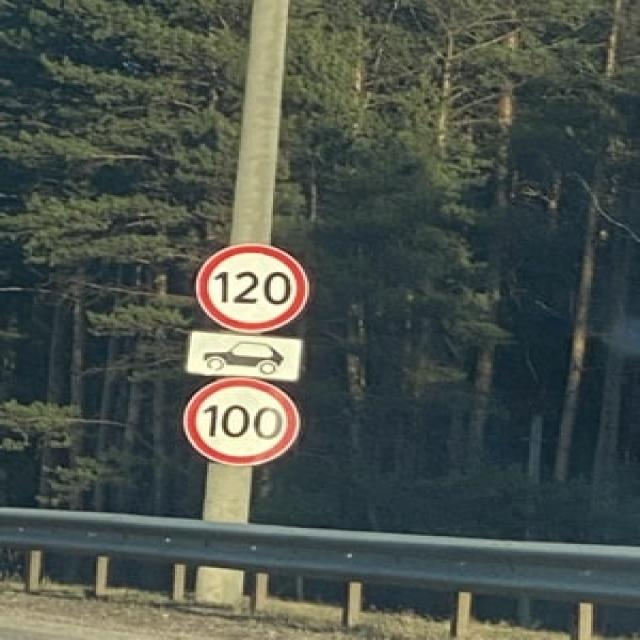Speed Limit -100-: (201, 404, 283, 440)
Speed Limit -120-: (212, 270, 292, 306)
